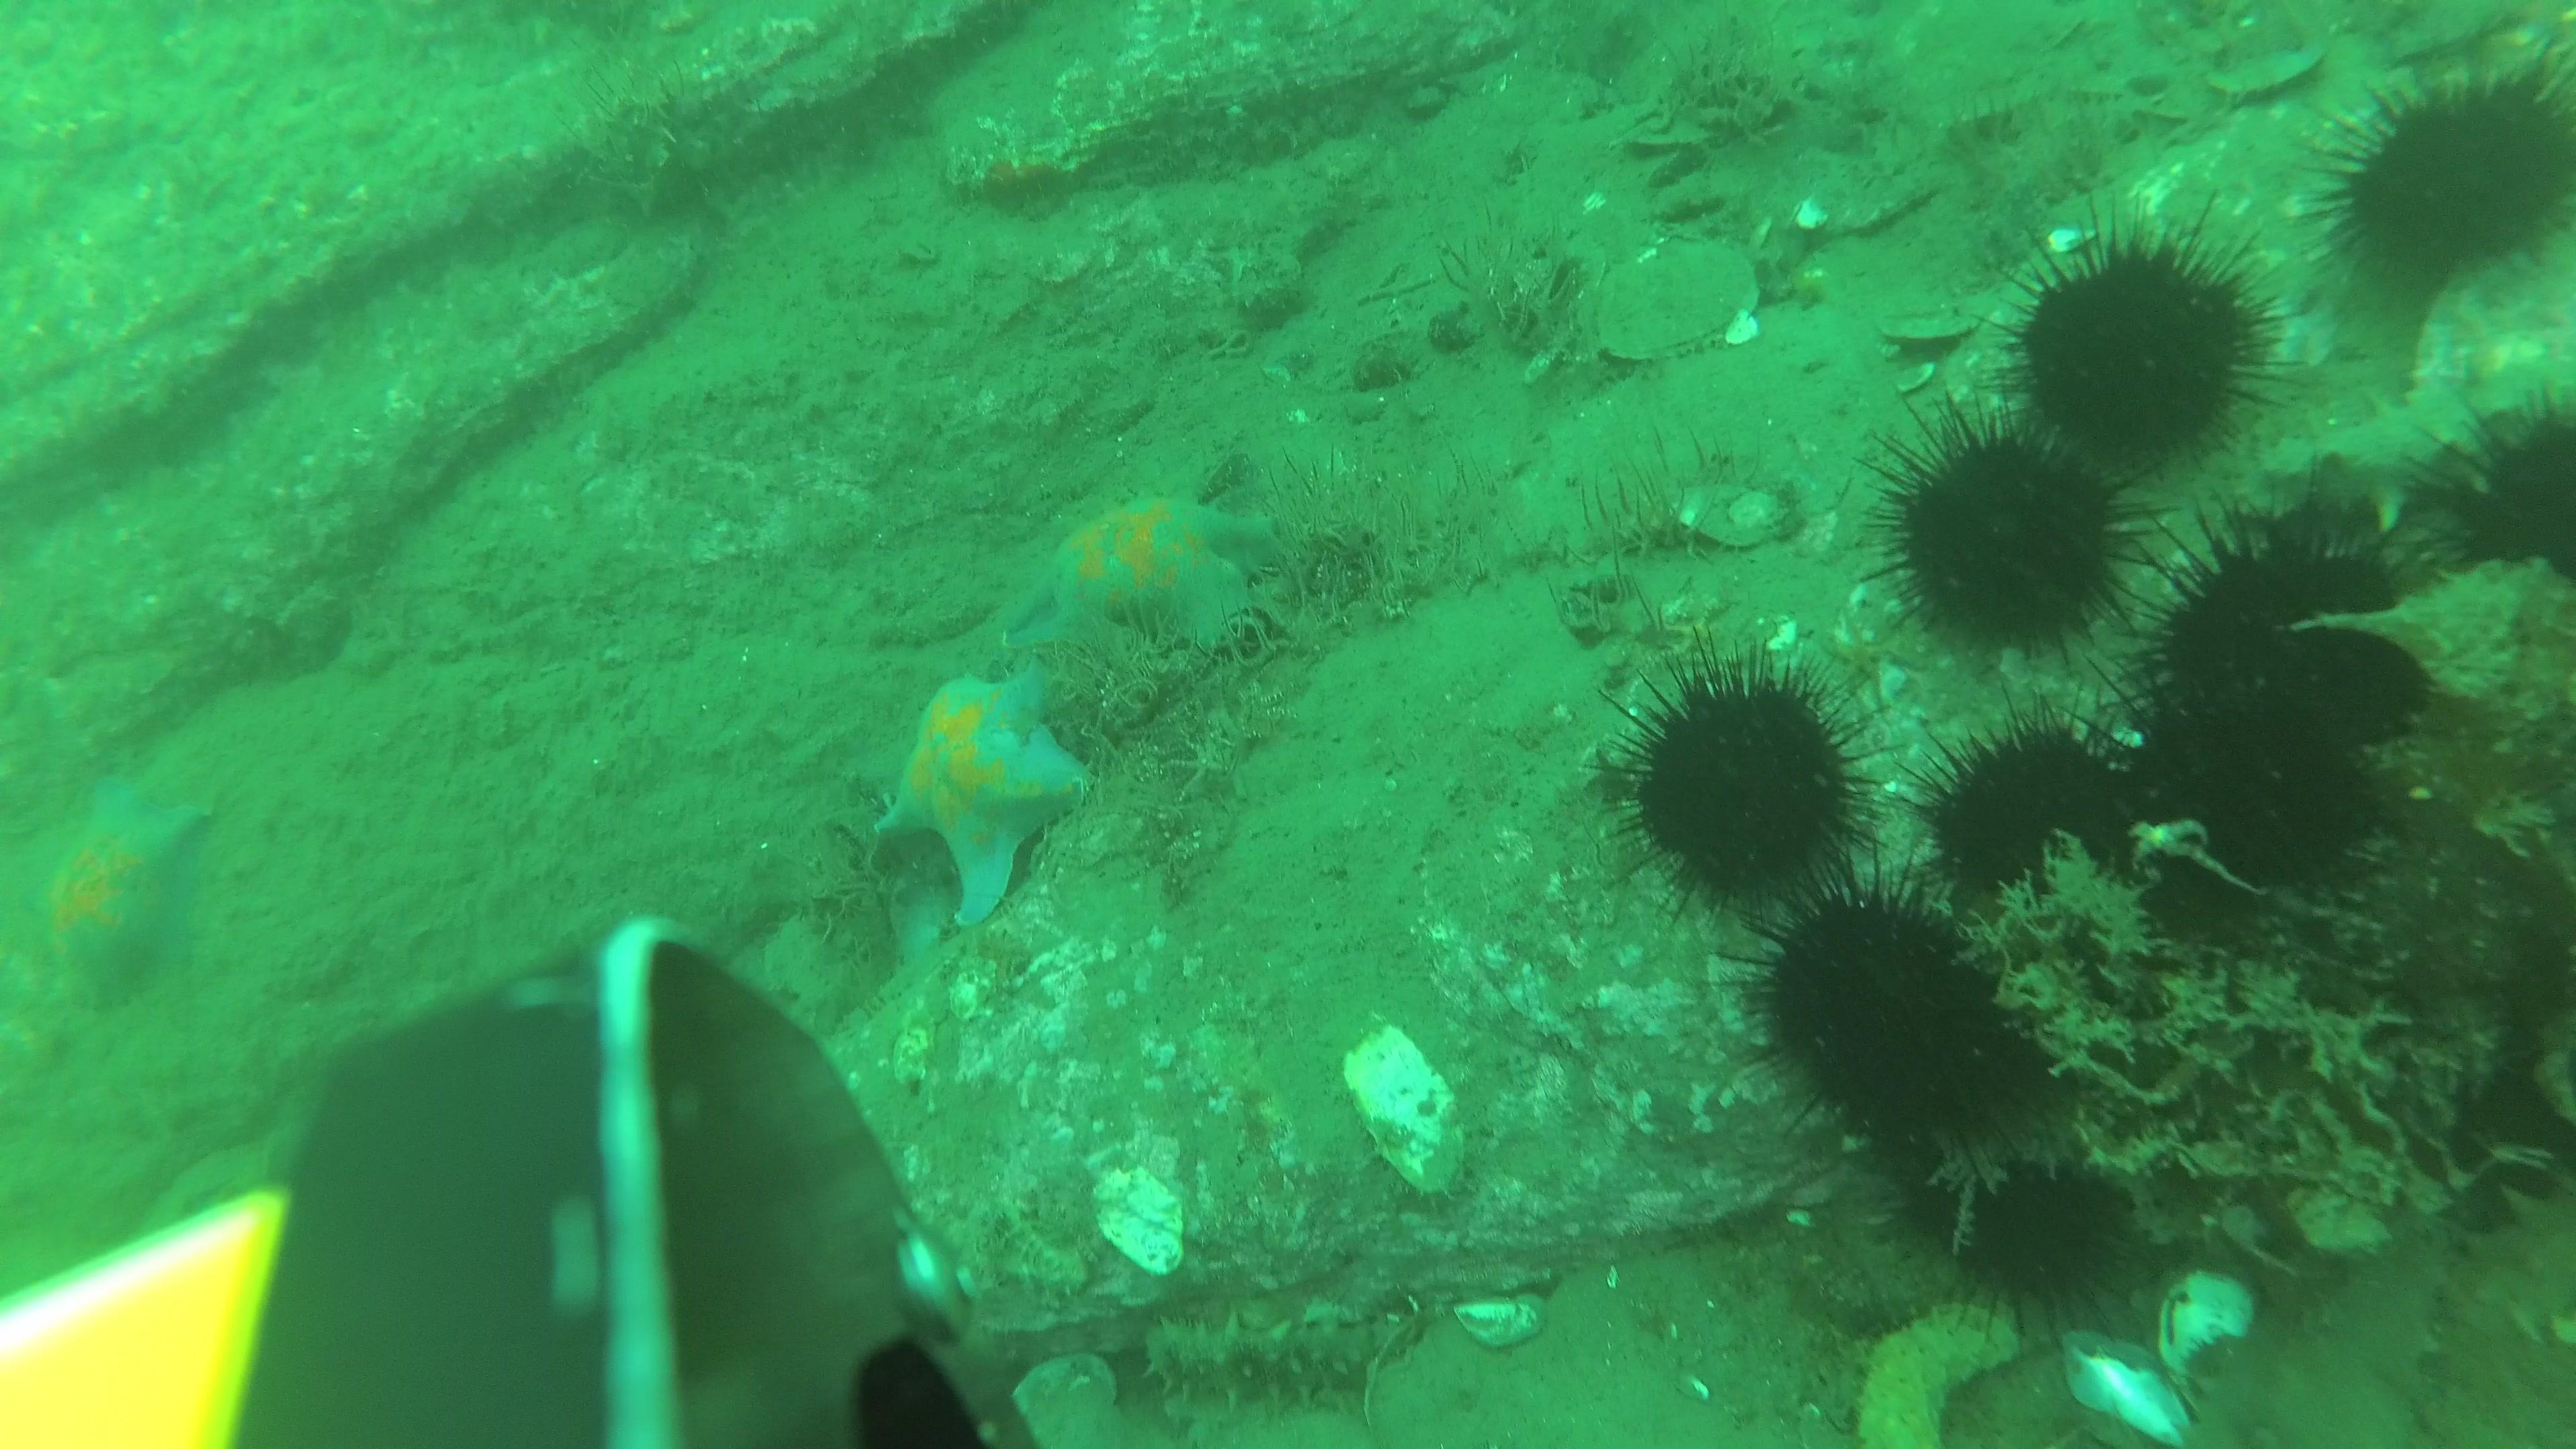echinus: (1861, 380, 2158, 686), (1989, 191, 2296, 487), (1610, 625, 1882, 938), (2312, 42, 2576, 322), (2167, 479, 2420, 763), (1750, 869, 1994, 1148), (2134, 669, 2365, 934), (1920, 685, 2143, 941), (1907, 1115, 2128, 1329), (2420, 380, 2576, 607), (2413, 1030, 2576, 1231)
holothurian: (2185, 1219, 2465, 1449), (2229, 384, 2576, 533), (1146, 1300, 1394, 1412), (2449, 1178, 2576, 1341)
scallop: (1596, 242, 1760, 366), (993, 1350, 1120, 1449), (1683, 481, 1796, 552)
starfish: (879, 655, 1085, 927), (1003, 490, 1281, 667), (42, 764, 216, 1021)
